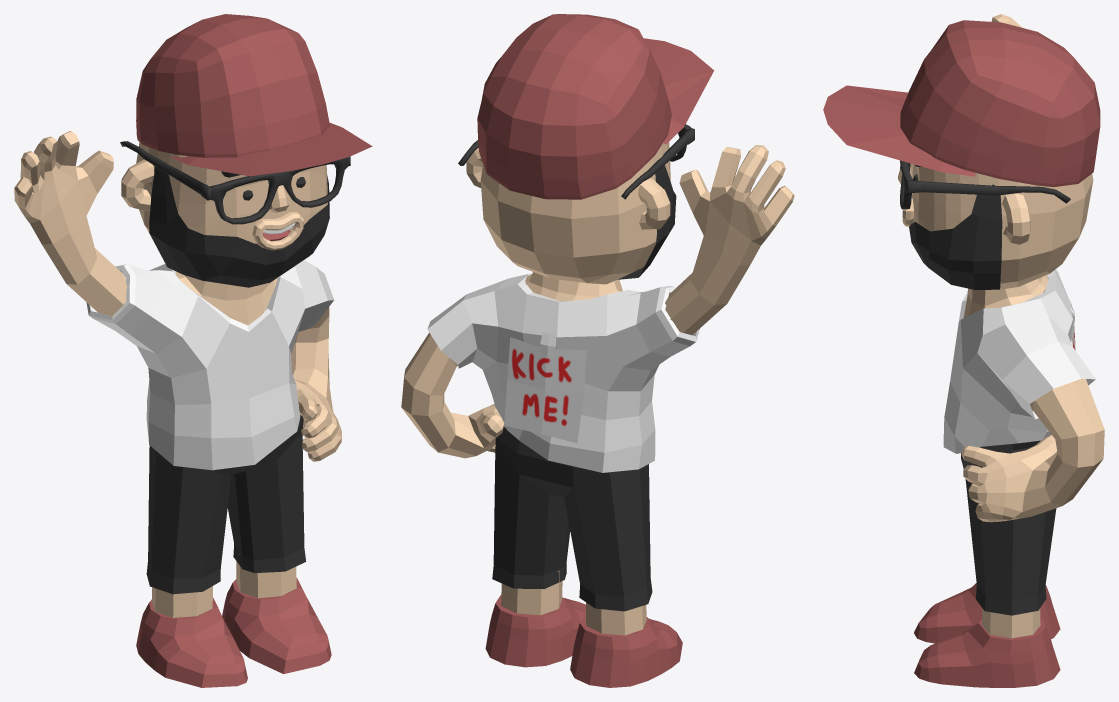
The picture shows the model from 3 angles, left to right: view 1: azimuth 30°, elevation 25°; view 2: azimuth 150°, elevation 25°; view 3: azimuth 270°, elevation 25°; orthographic projection.
Visible parts, largest first — view 1: Full; view 2: Full; view 3: Full.
Boxes of the visible parts, left/top/right/bottom form: Full: left=14, top=14, right=372, bottom=687; Full: left=401, top=14, right=794, bottom=687; Full: left=823, top=14, right=1104, bottom=687.
Size of the model in its own units: 47.81 by 81.39 by 33.44.
5 materials, 1 textured.
